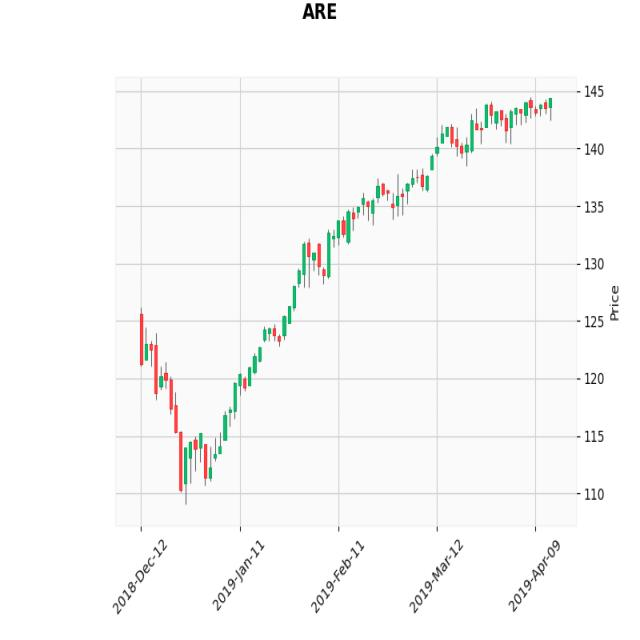Double-Bottom: (165, 375, 238, 506)
